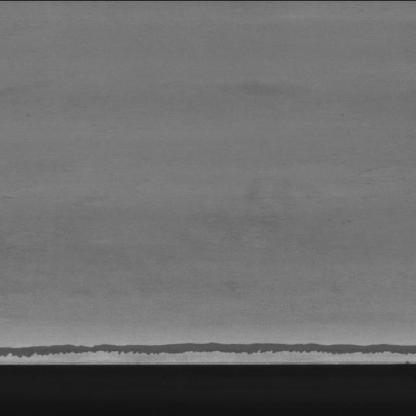oil_spot: (0, 324, 415, 358)
